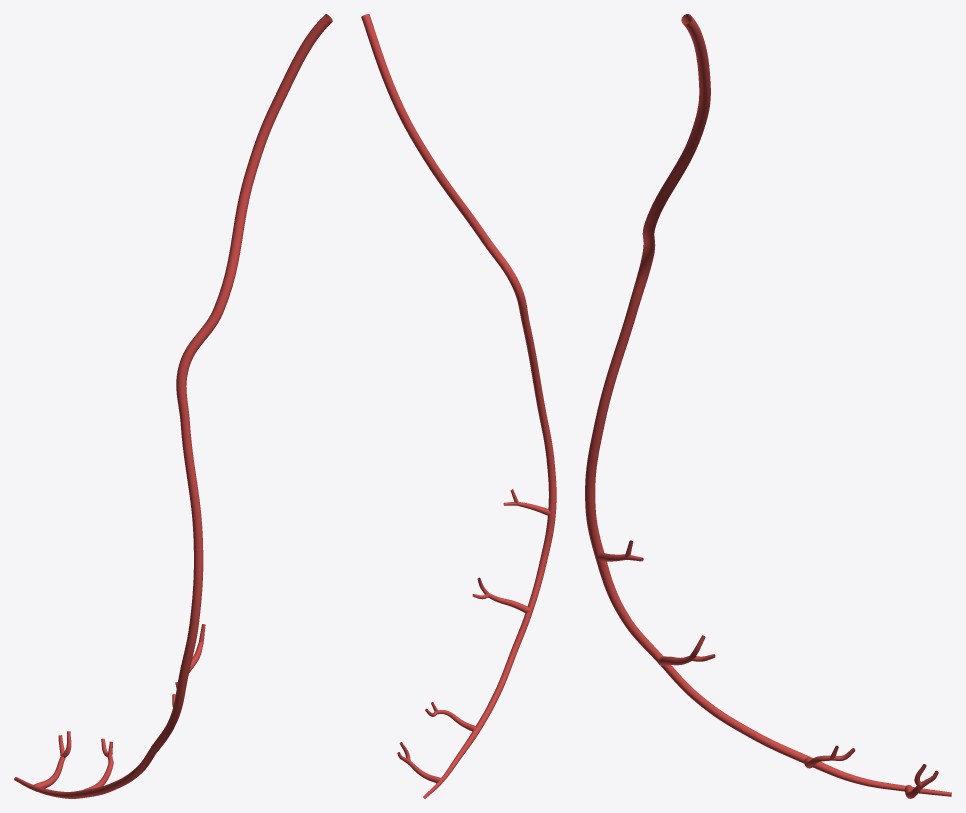
3 renders of one model, left to right at view 1: azimuth 30°, elevation 25°; view 2: azimuth 150°, elevation 25°; view 3: azimuth 270°, elevation 25°, orthographic. The views are drawn at different scales.
Parts seen in each view (by area): view 1: 左侧阴茎背动脉; view 2: 左侧阴茎背动脉; view 3: 左侧阴茎背动脉.
Boxes of the visible parts, <box> form: 左侧阴茎背动脉: <box>14,14,332,798</box>; 左侧阴茎背动脉: <box>361,14,556,798</box>; 左侧阴茎背动脉: <box>585,14,951,798</box>.
Bounding box in the file's own units: 0.0505 × 0.1966 × 0.074.
